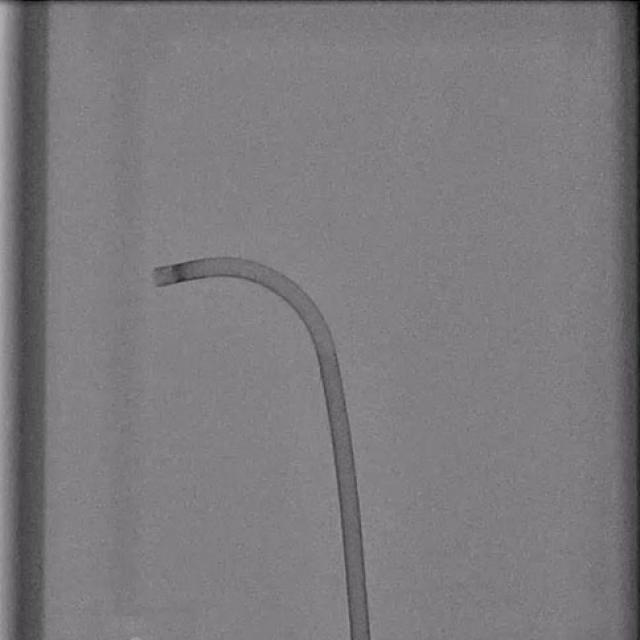bend: (315, 343, 338, 358)
entry: (350, 634, 372, 640)
marker: (172, 263, 188, 283)
tip: (152, 268, 163, 286)
